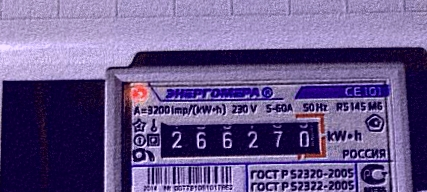0: (297, 129, 311, 149)
2: (170, 129, 183, 151), (247, 130, 260, 150)
6: (221, 130, 234, 150), (195, 130, 207, 151)
7: (273, 129, 283, 148)
screen: (149, 109, 333, 168)
